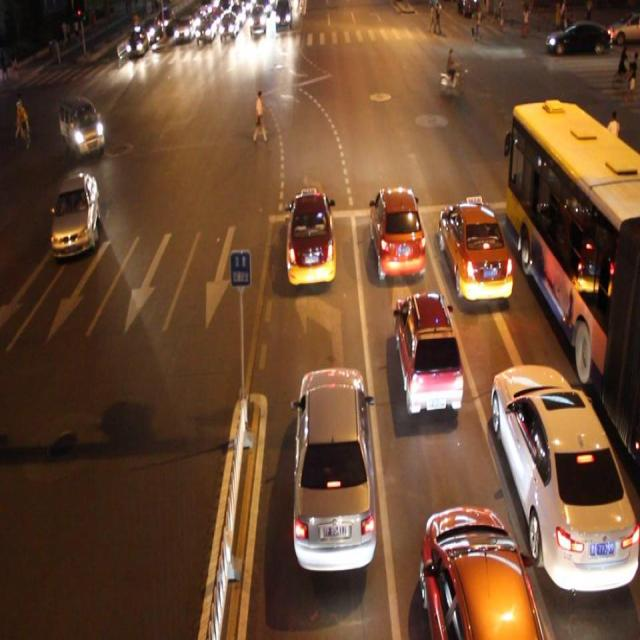car: (490, 361, 640, 596), (290, 369, 376, 573), (418, 509, 540, 640), (393, 290, 464, 418), (439, 197, 512, 311), (371, 188, 426, 284), (286, 188, 336, 290), (50, 171, 100, 256), (58, 97, 105, 159)
van: (503, 97, 640, 458)
